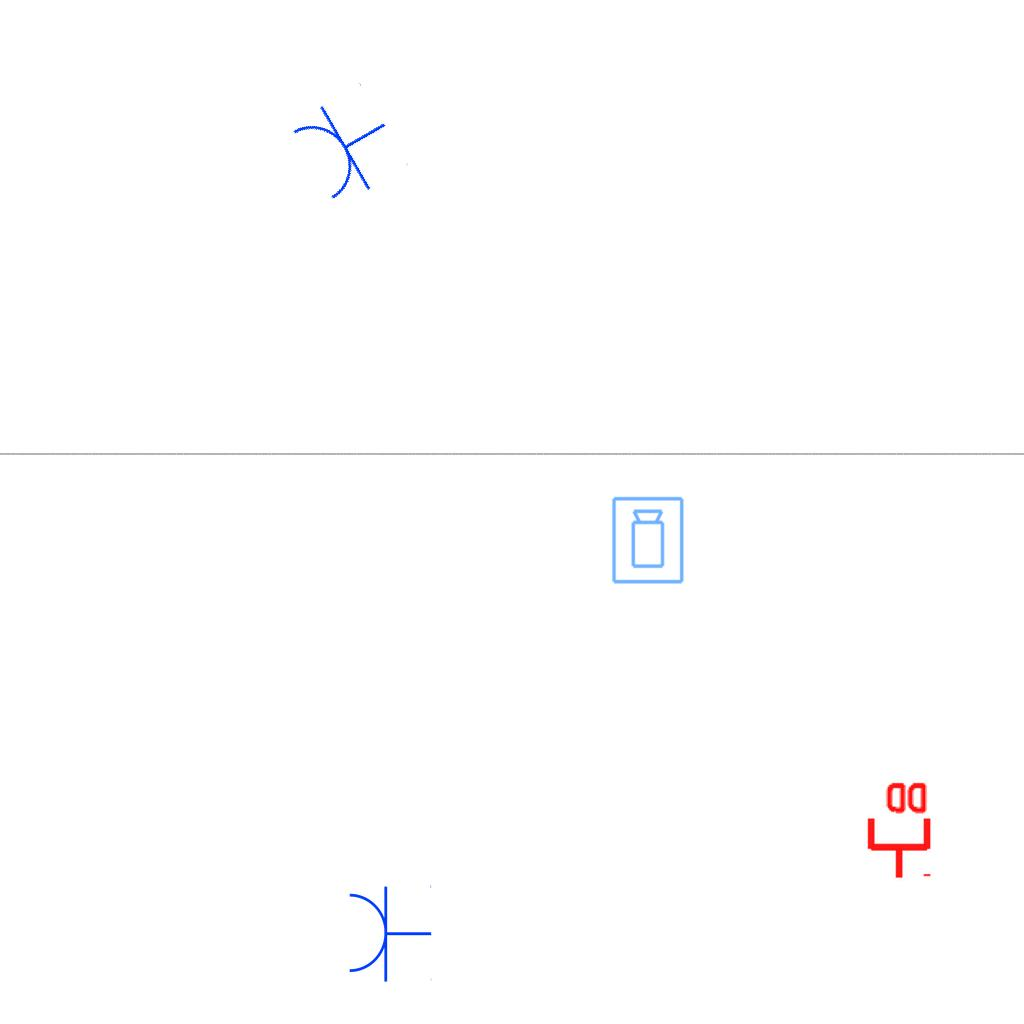Datenanschluss_zweifach: (863, 778, 932, 881)
KFO_Kamera_mit_Festobjektiv: (610, 495, 687, 586)
Schukosteckdose_einfach: (284, 80, 410, 211), (345, 883, 432, 983)
